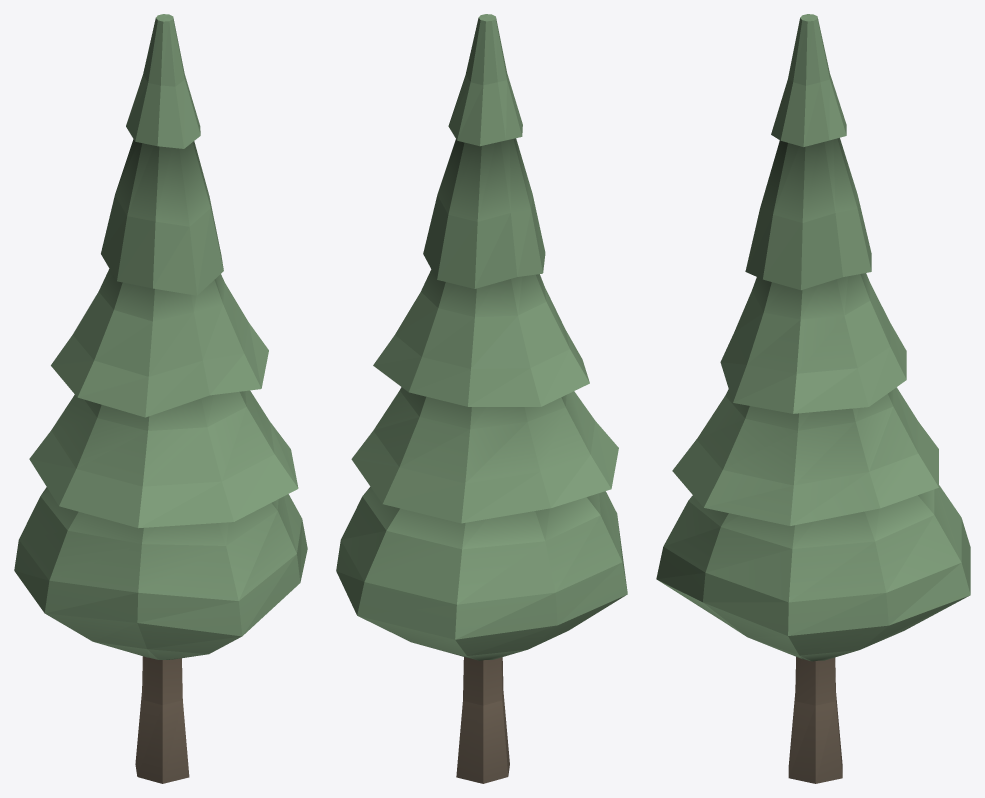
Rendered from shrub.glb.
The picture shows the model from 3 angles, left to right: view 1: azimuth 30°, elevation 25°; view 2: azimuth 150°, elevation 25°; view 3: azimuth 270°, elevation 25°; orthographic projection.
Parts seen in each view (by area): view 1: shrub; view 2: shrub; view 3: shrub.
Part boxes in pixels (left/top/right/bottom): shrub: left=14, top=14, right=307, bottom=783; shrub: left=336, top=14, right=627, bottom=783; shrub: left=656, top=14, right=970, bottom=783.
Bounding box in the file's own units: 1.14 × 3.12 × 1.18.
